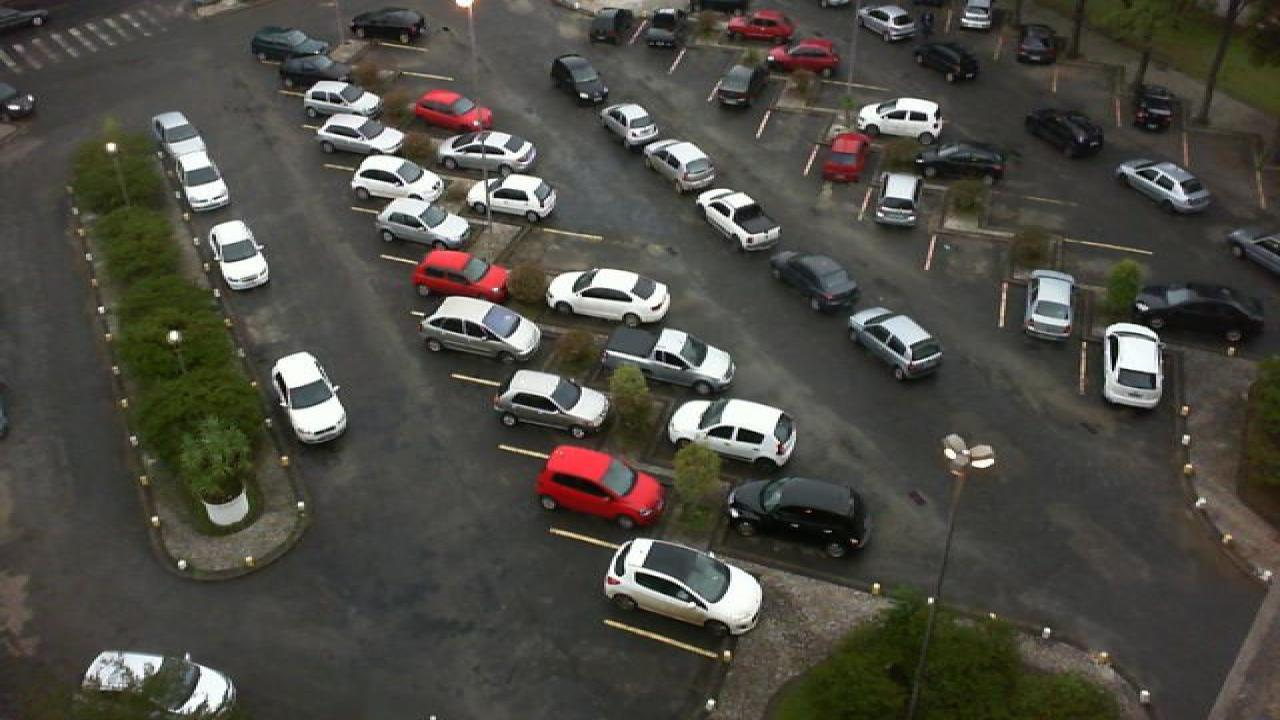Car: (602, 536, 768, 636), (726, 474, 872, 558), (536, 442, 666, 531), (80, 649, 238, 720), (600, 323, 738, 396), (666, 396, 800, 471), (490, 368, 614, 442), (1132, 279, 1264, 345), (542, 266, 674, 330), (418, 294, 546, 356), (268, 351, 350, 447), (844, 306, 946, 382), (768, 249, 864, 315), (1098, 320, 1168, 410), (692, 187, 784, 253), (1114, 158, 1216, 217), (410, 246, 512, 304), (372, 195, 476, 250), (432, 127, 542, 179), (346, 152, 450, 204), (462, 171, 560, 225), (1022, 103, 1108, 161), (206, 219, 272, 292), (856, 94, 946, 146), (640, 138, 720, 194), (170, 144, 234, 214), (910, 138, 1008, 182), (314, 112, 410, 156), (1024, 268, 1080, 342), (298, 78, 392, 122), (408, 86, 494, 132), (148, 110, 208, 170), (912, 39, 984, 86), (870, 171, 928, 229), (248, 24, 332, 64), (548, 53, 612, 105), (280, 53, 360, 93), (346, 6, 428, 45), (596, 102, 664, 148), (818, 130, 872, 184), (1226, 224, 1280, 276), (708, 64, 766, 112), (764, 37, 842, 72), (856, 2, 920, 43), (632, 6, 690, 50), (1130, 81, 1178, 134), (722, 8, 798, 39), (1016, 20, 1064, 64), (582, 6, 636, 44), (954, 0, 994, 33)
